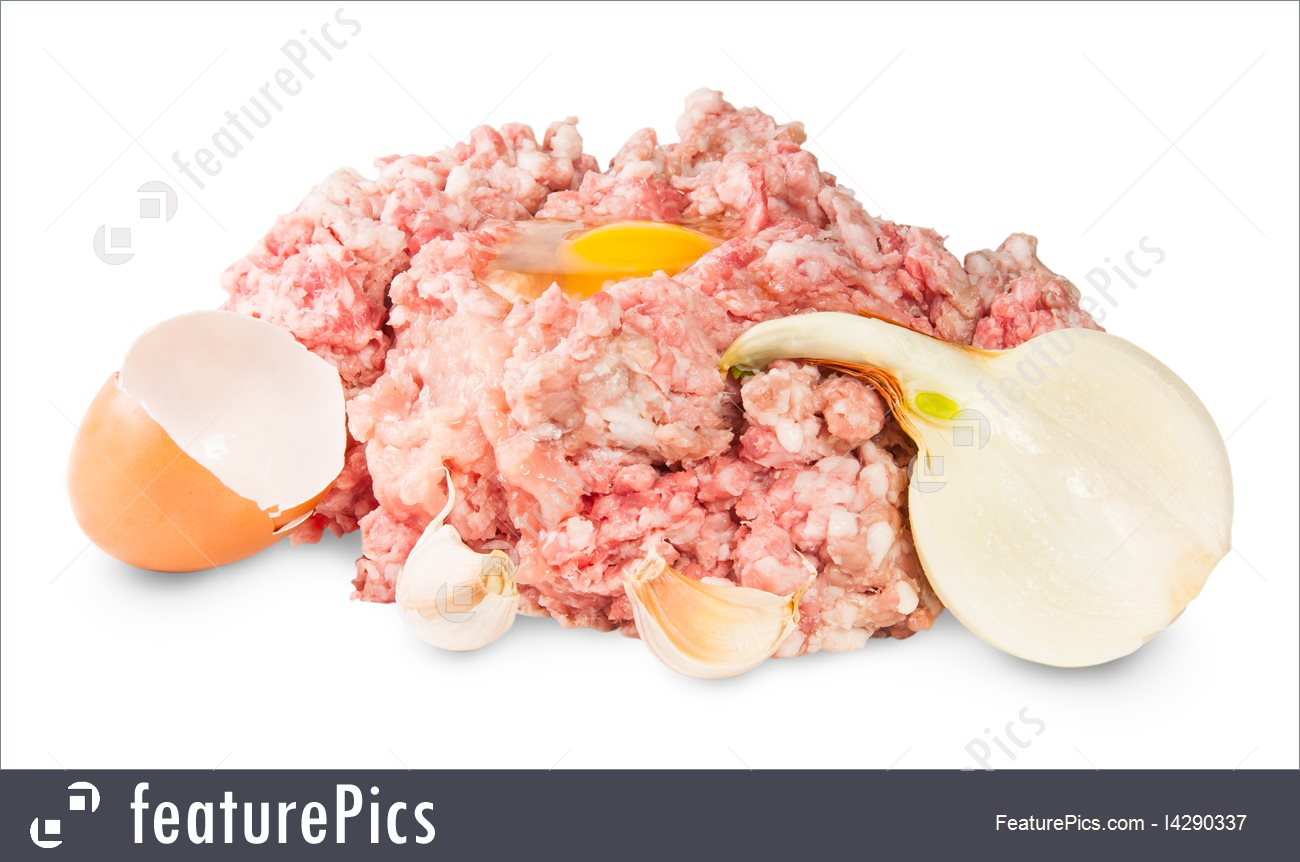ground_beef: (189, 66, 962, 682)
